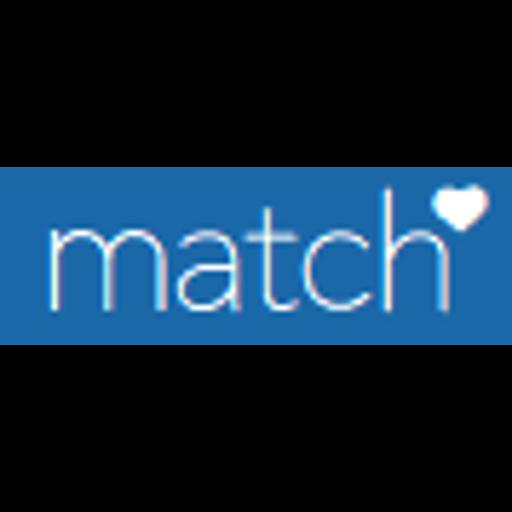Match: (0, 167, 512, 345)
